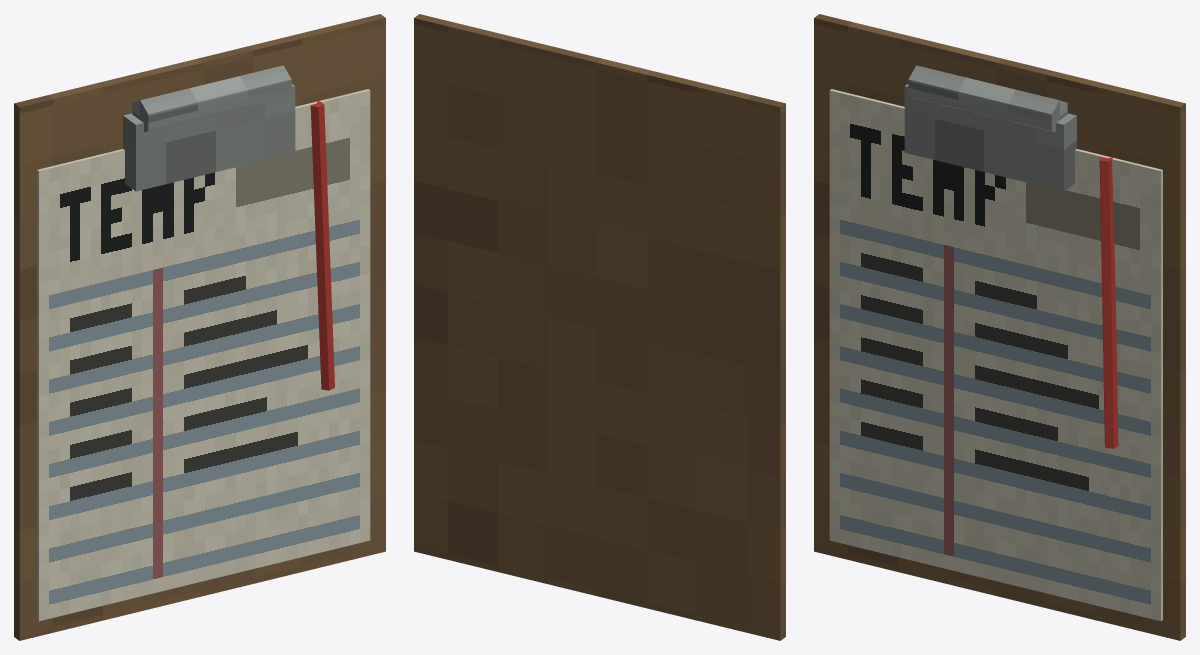
File: clipboard.glb
The picture shows the model from 3 angles, left to right: view 1: azimuth 30°, elevation 25°; view 2: azimuth 150°, elevation 25°; view 3: azimuth 330°, elevation 25°; orthographic projection.
Parts seen in each view (by area): view 1: Clipboard; view 2: Clipboard; view 3: Clipboard.
Part boxes in pixels (<box>): Clipboard: <box>14,14,385,640</box>; Clipboard: <box>414,14,785,640</box>; Clipboard: <box>814,14,1185,640</box>.
Size of the model in its own units: 0.23 by 0.32 by 0.0247.
Materials: 4 (3 with a texture image).
